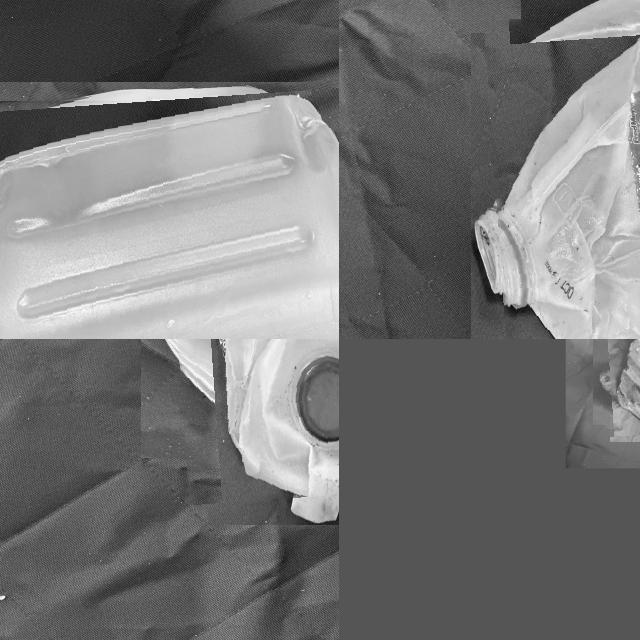milk-jug: (0, 85, 339, 339), (489, 2, 640, 339), (167, 339, 339, 498), (598, 339, 640, 435)
